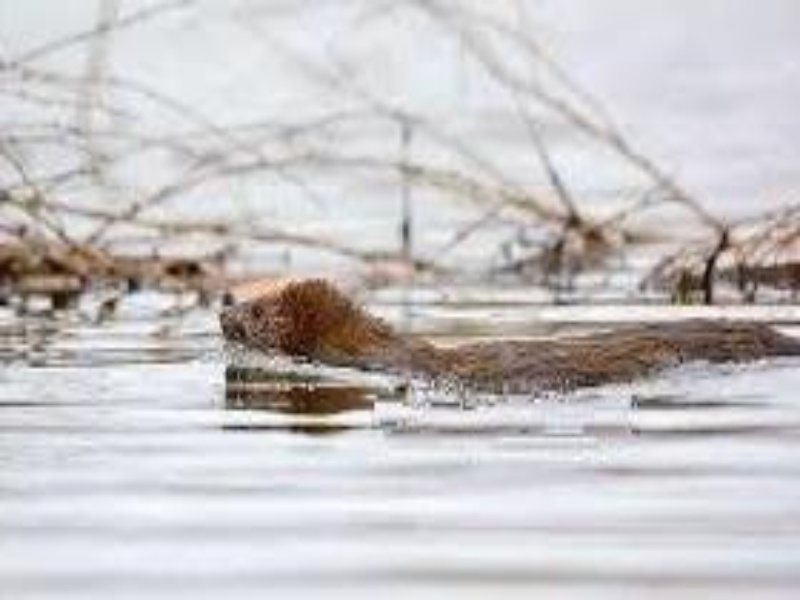minkish: (214, 276, 800, 399)
